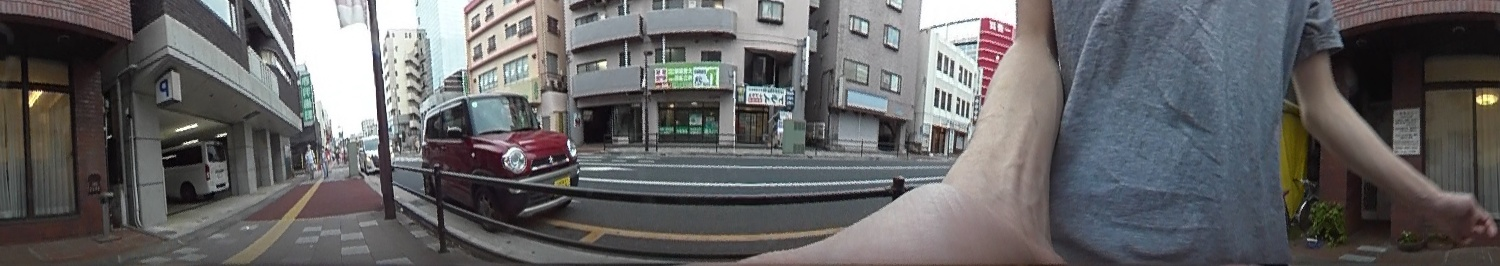difficult_person: (301, 140, 318, 178), (318, 147, 329, 176)
